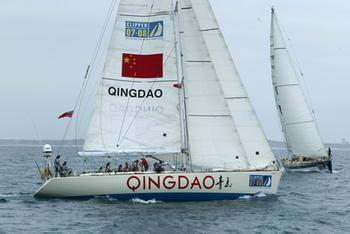fanchuan: (32, 1, 283, 202), (270, 7, 346, 171)
